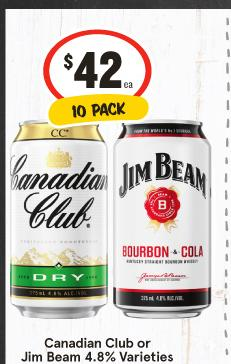description_block: (14, 330, 177, 364)
price_main: (41, 43, 157, 95)
product_image_block: (9, 122, 218, 322)
promo_text_block: (37, 96, 155, 122)
